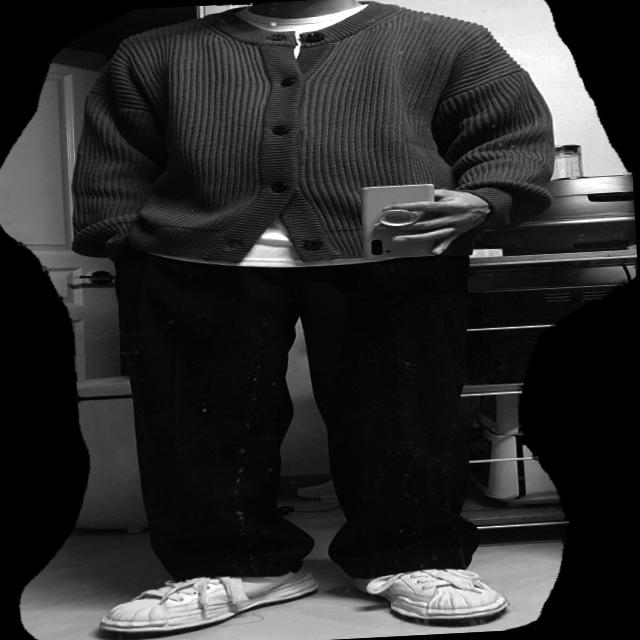cardigan: (53, 0, 560, 275)
slacks: (108, 212, 486, 594)
